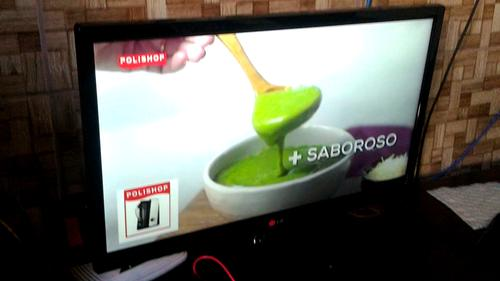Polishop #1: (118, 178, 179, 245)
